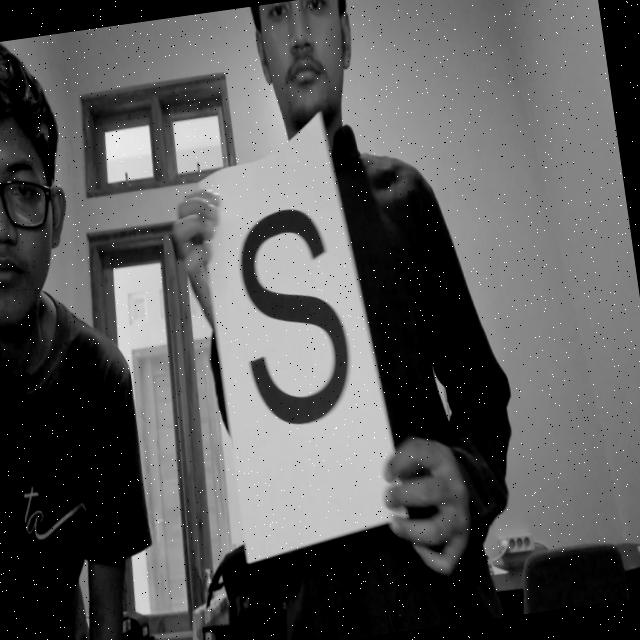s: (220, 187, 370, 455)
